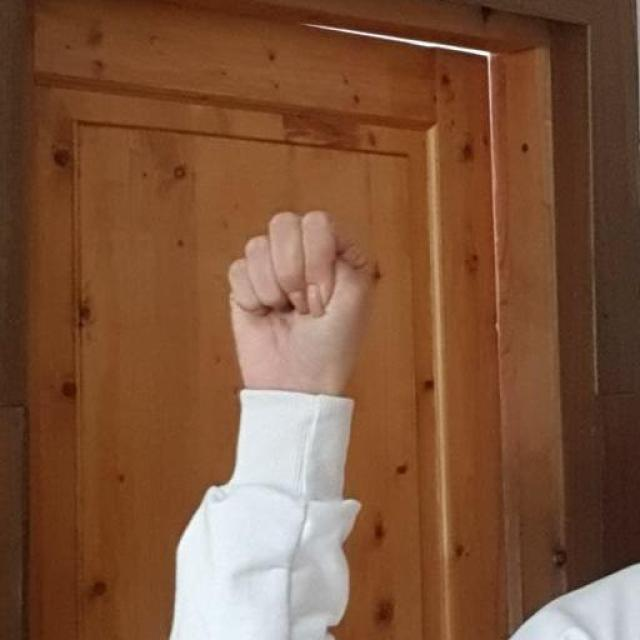hand: (226, 207, 380, 395)
